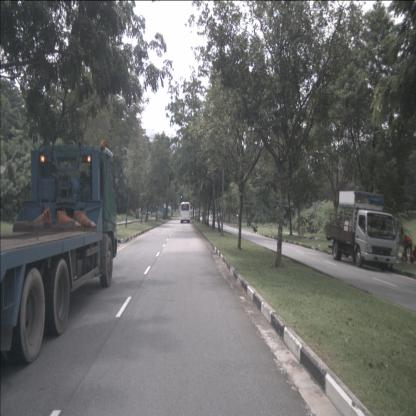human-pedestrian-adult: (402, 233, 413, 262), (410, 244, 415, 266), (139, 207, 141, 220), (136, 207, 138, 220)
movable_object-trafficcone: (58, 210, 81, 228), (31, 205, 50, 226), (75, 210, 97, 228)
vehicle-bus-rigid: (180, 202, 190, 223)
vehicle-truck: (0, 145, 117, 364), (326, 191, 397, 272)
